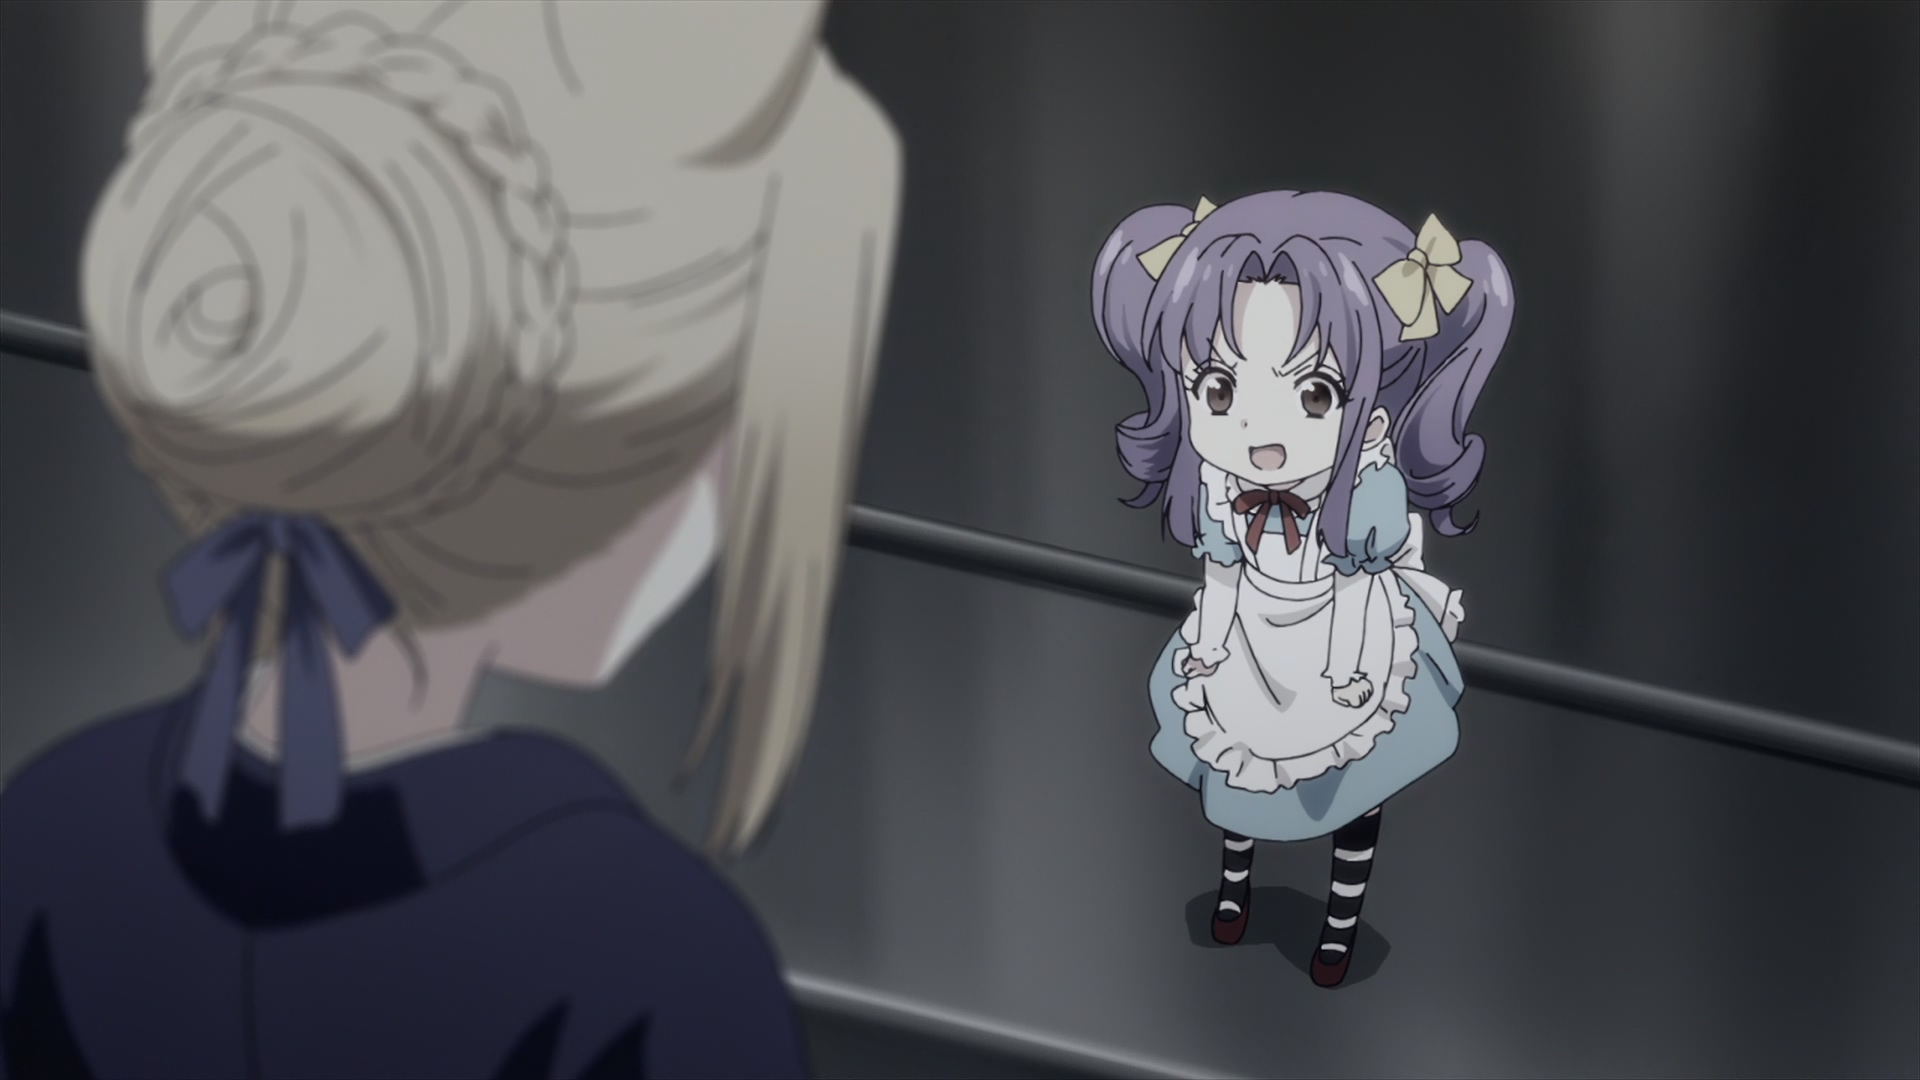桐: (1, 1, 901, 1080)
阿菊: (1092, 189, 1518, 989)
